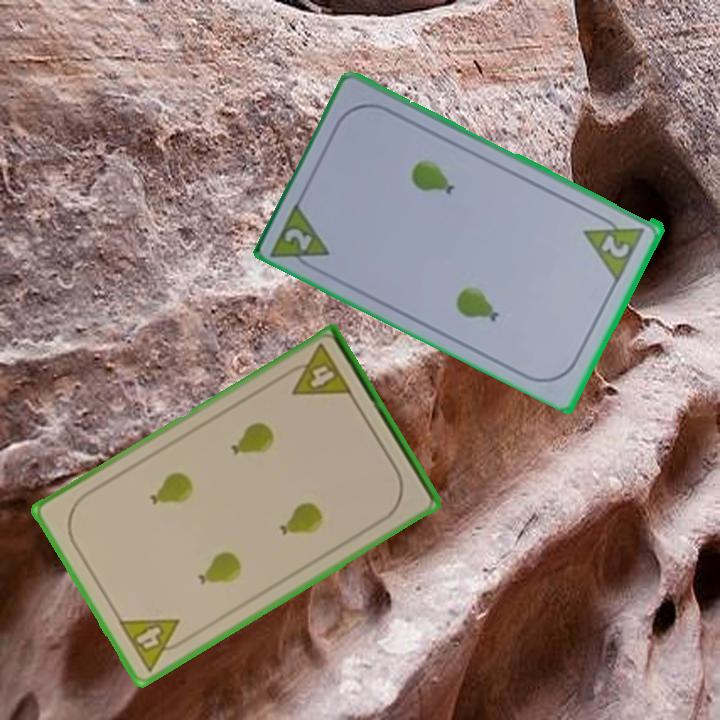2p: (581, 208, 649, 282), (281, 224, 316, 254)
4p: (114, 615, 193, 675), (279, 340, 355, 400)
